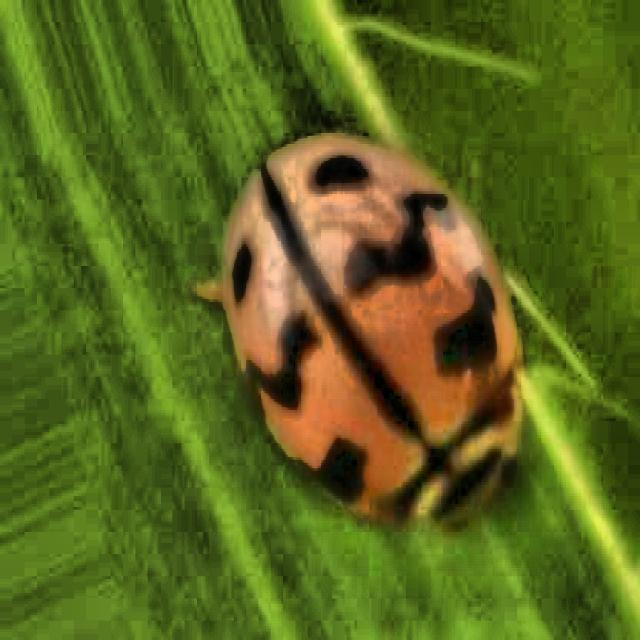Asian-Lady-beetle: (160, 75, 553, 569)
